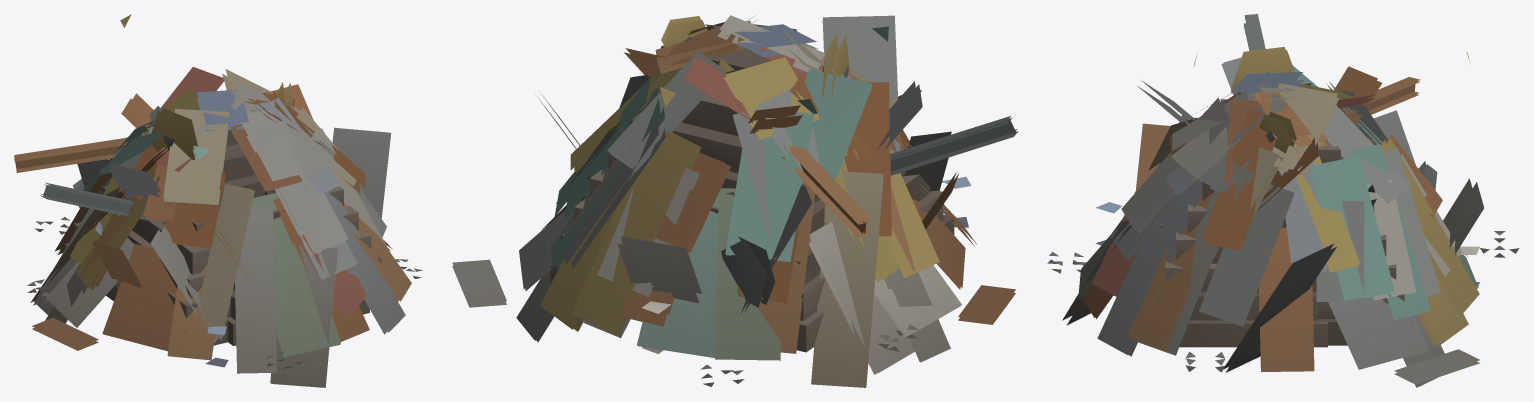
Rendered from heap_b.lod.glb.
3 views of the same model, side by side, from view 1: azimuth 30°, elevation 25°; view 2: azimuth 150°, elevation 25°; view 3: azimuth 270°, elevation 25° (orthographic). The views are drawn at different scales.
Parts seen in each view (by area): view 1: heap_b; view 2: heap_b; view 3: heap_b.
Part boxes in pixels (left/top/right/bottom): heap_b: left=14, top=14, right=422, bottom=387; heap_b: left=452, top=15, right=1018, bottom=387; heap_b: left=1047, top=14, right=1519, bottom=387.
Size of the model in its own units: 11.07 by 6.75 by 10.86.
